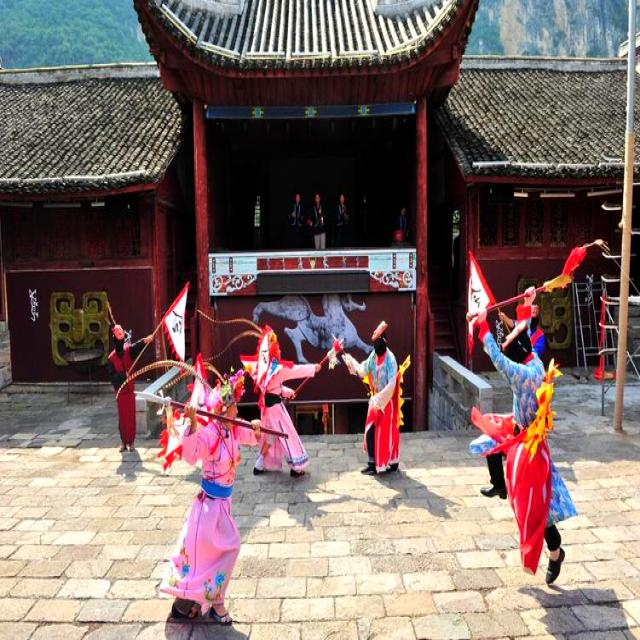Reeves-s Pheasant: (108, 358, 214, 398), (148, 356, 226, 395)
